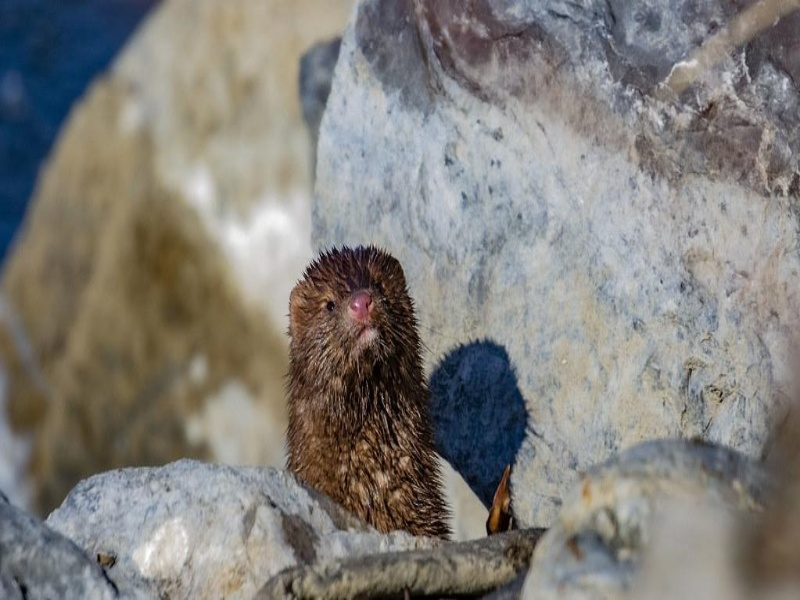minkish: (280, 243, 452, 547)
